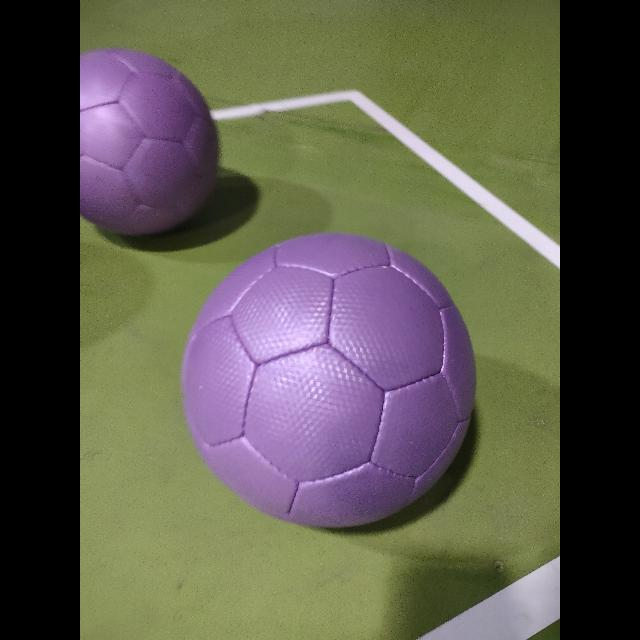P: (182, 233, 474, 527), (80, 48, 218, 235)
